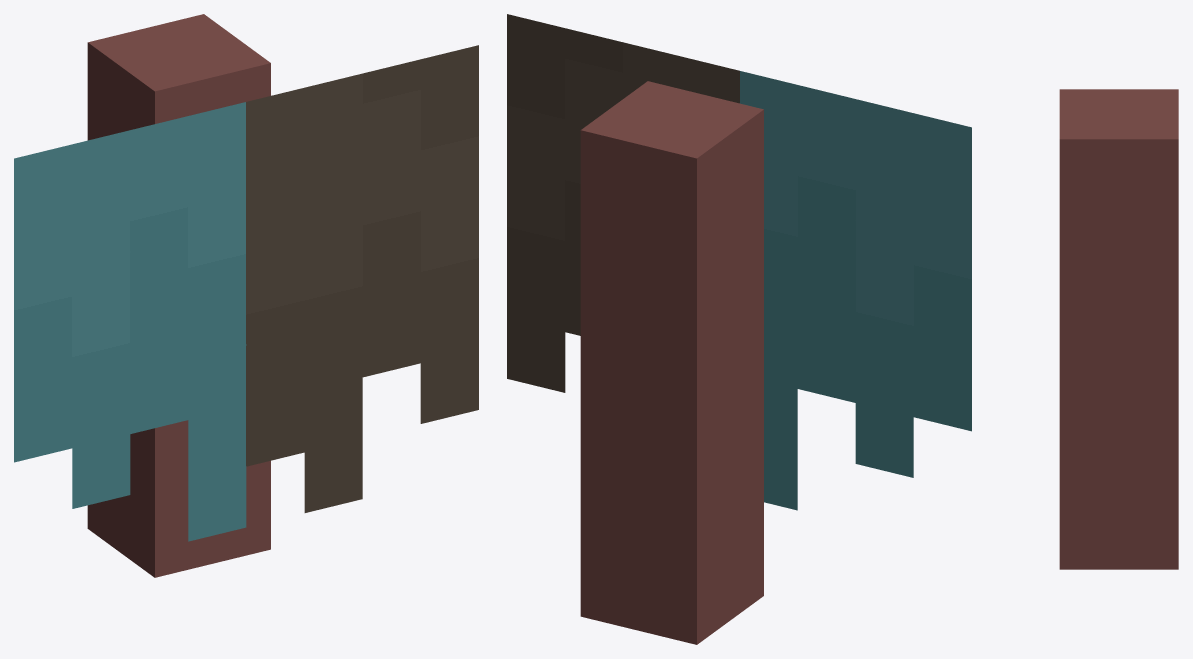
Rendered from Draugr Banner.glb.
3 renders of one model, left to right at view 1: azimuth 30°, elevation 25°; view 2: azimuth 150°, elevation 25°; view 3: azimuth 270°, elevation 25°, orthographic. The views are drawn at different scales.
Visible parts, largest first — view 1: cube; view 2: cube; view 3: cube.
Boxes of the visible parts, left/top/right/bottom form: cube: left=14, top=14, right=478, bottom=577; cube: left=507, top=14, right=971, bottom=644; cube: left=1059, top=89, right=1178, bottom=569.
Size of the model in its own units: 1 by 1 by 0.375.
Materials: 1 (1 with a texture image).
